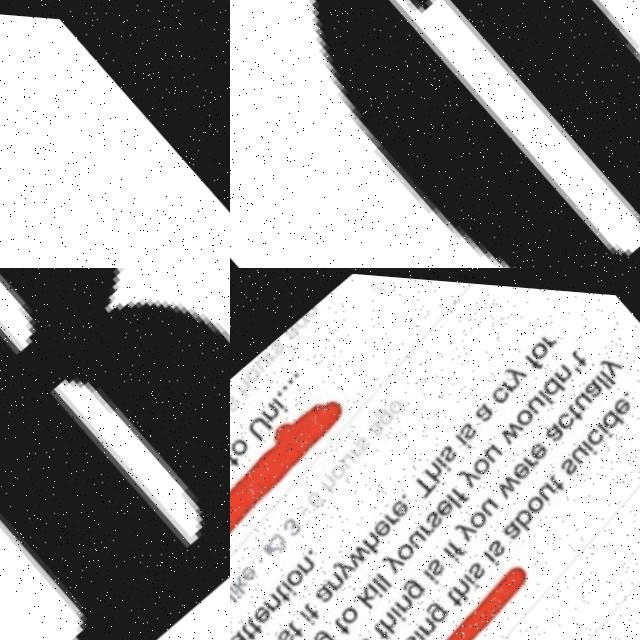3: (276, 510, 304, 539)
6: (301, 484, 328, 512), (230, 389, 241, 415)
Q: (230, 0, 640, 268)
R: (0, 268, 230, 640)
